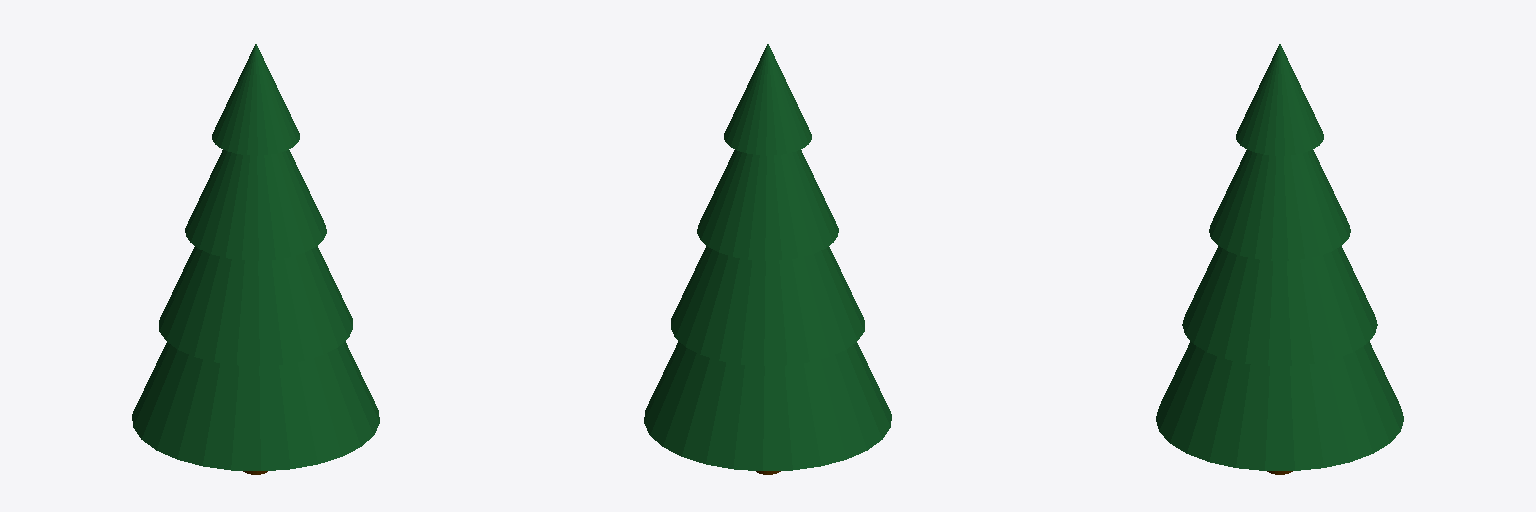
File: Prop_Decorative_Tree_Pine_2.obj
3 views of the same model, side by side, from view 1: azimuth 30°, elevation 25°; view 2: azimuth 150°, elevation 25°; view 3: azimuth 270°, elevation 25° (orthographic).
Parts seen in each view (by area): view 1: object2; view 2: object2; view 3: object2.
Boxes of the visible parts, x1=… form: object2: x1=132, y1=44, x2=379, y2=470; object2: x1=644, y1=44, x2=891, y2=470; object2: x1=1156, y1=44, x2=1403, y2=470.
Bounding box in the file's own units: 0.8934 × 1.7 × 0.9.